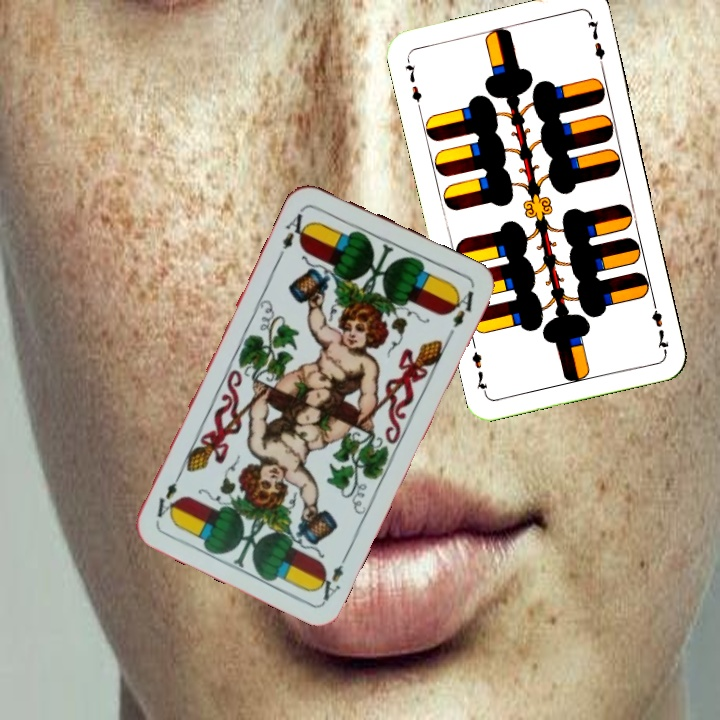E7: (647, 295, 672, 354), (401, 55, 424, 113)
EA: (312, 548, 352, 604), (274, 204, 313, 260)
